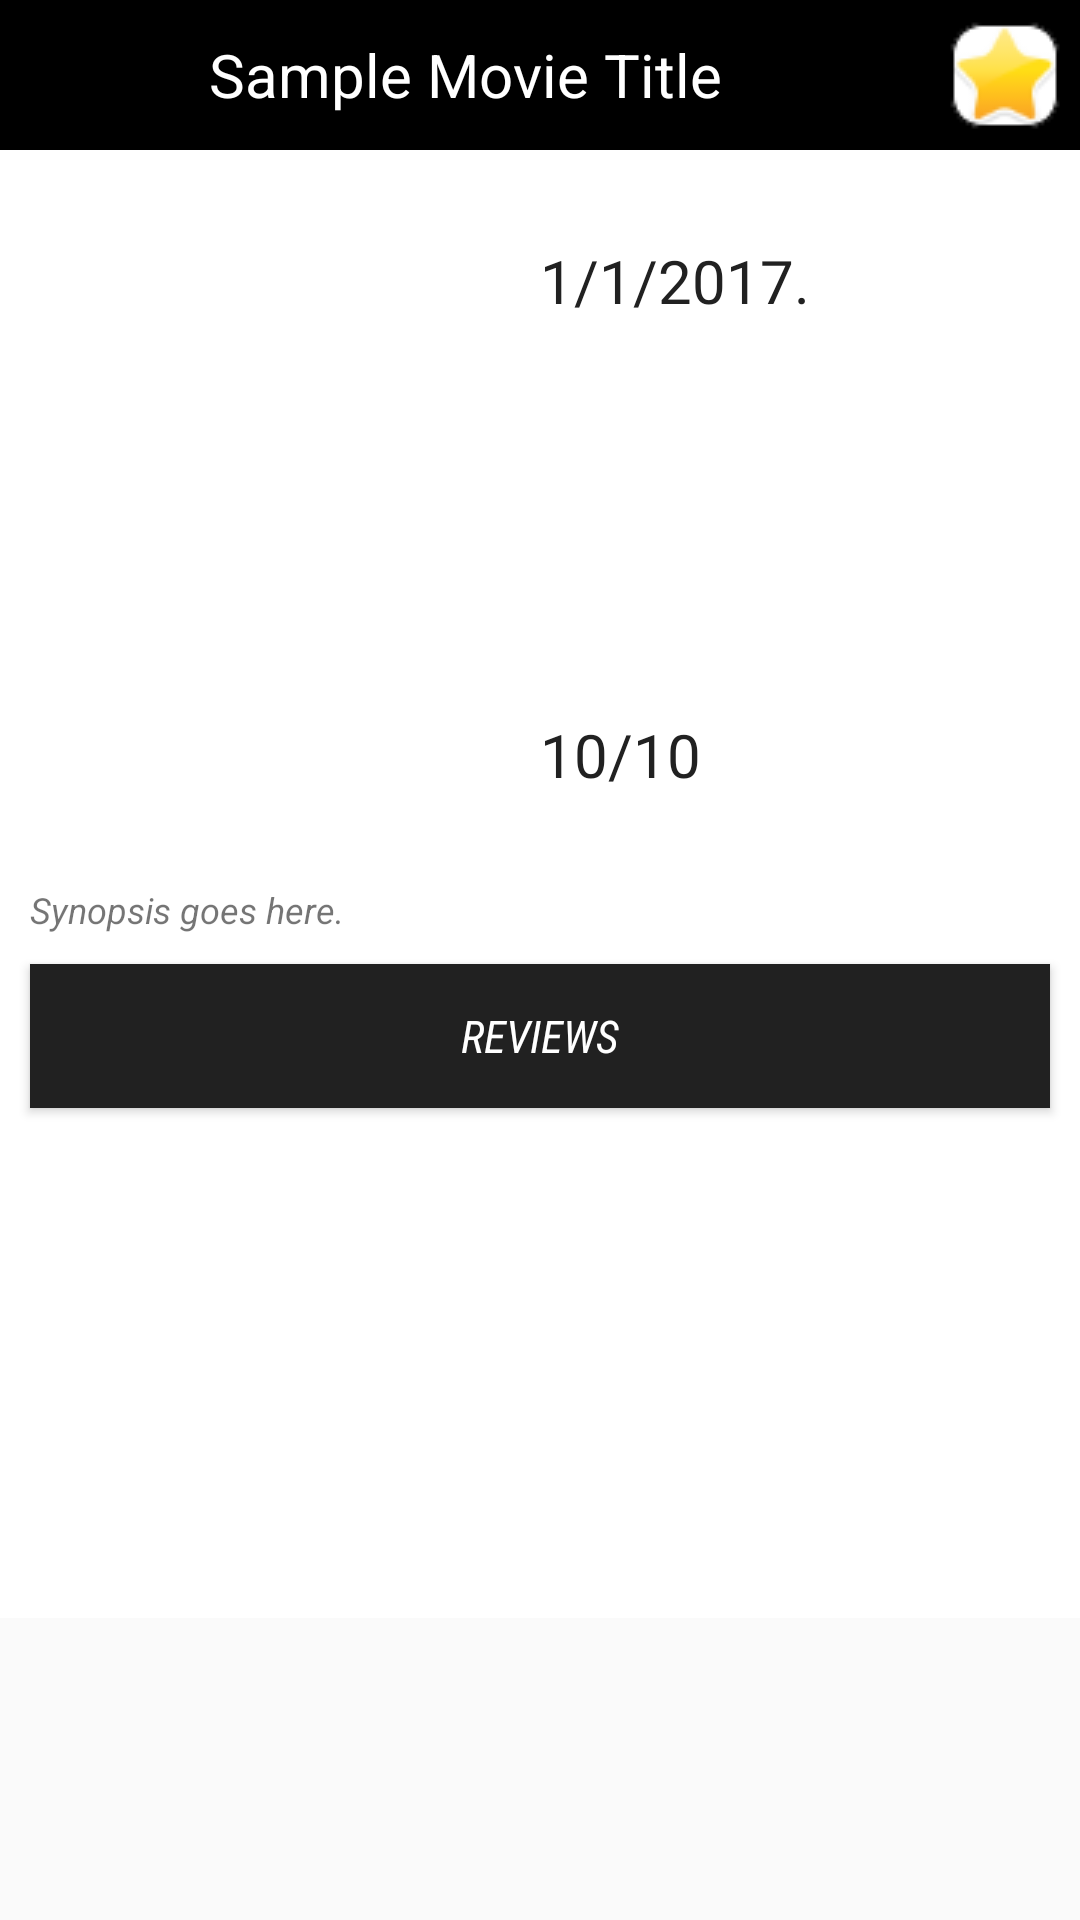

Icons on this 1080px×1920px Android screen, each with its box as bbox=[x1, y1, x2, y2]:
star: bbox=[951, 23, 1059, 128]
